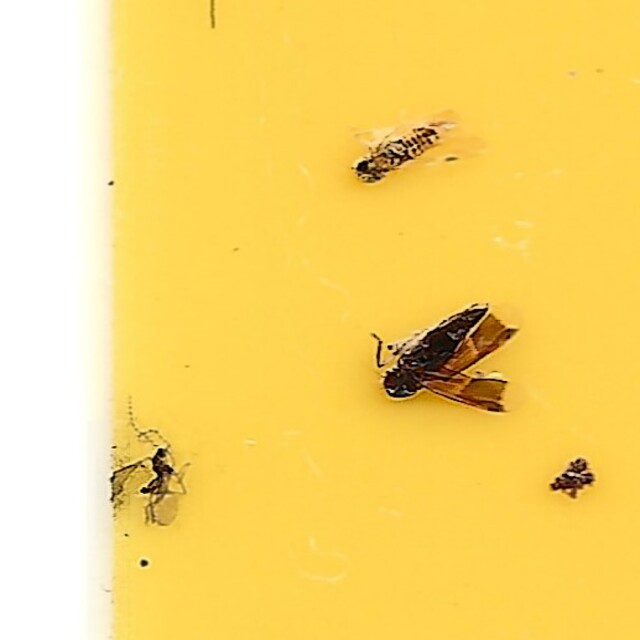Hemiptera: (379, 302, 516, 416), (350, 111, 474, 189)
Hymenoptera: (124, 403, 193, 529)
